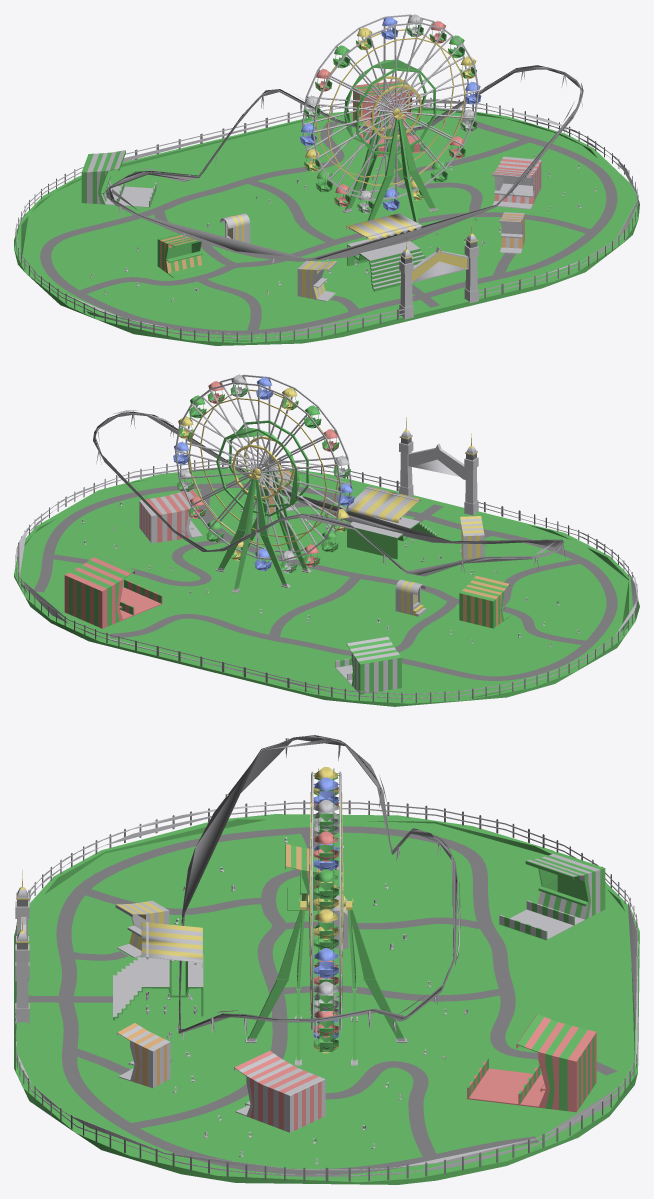
Rendered from Playground.glb.
3 renders of one model, top to bottom at view 1: azimuth 30°, elevation 25°; view 2: azimuth 150°, elevation 25°; view 3: azimuth 270°, elevation 25°, orthographic. The views are drawn at different scales.
Visible parts, largest first — view 1: 3d66-Editable_mesh-20050598-041, 3d66-Editable_mesh-20050598-154, 3d66-Editable_mesh-20050598-088; view 2: 3d66-Editable_mesh-20050598-041, 3d66-Editable_mesh-20050598-154, 3d66-Editable_mesh-20050598-088; view 3: 3d66-Editable_mesh-20050598-041, 3d66-Editable_mesh-20050598-154, 3d66-Editable_mesh-20050598-088.
Boxes of the visible parts, left/top/right/bottom form: 3d66-Editable_mesh-20050598-041: left=14, top=14, right=639, bottom=345; 3d66-Editable_mesh-20050598-154: left=15, top=65, right=638, bottom=342; 3d66-Editable_mesh-20050598-088: left=346, top=213, right=421, bottom=240; 3d66-Editable_mesh-20050598-041: left=14, top=374, right=639, bottom=706; 3d66-Editable_mesh-20050598-154: left=15, top=411, right=637, bottom=702; 3d66-Editable_mesh-20050598-088: left=346, top=486, right=421, bottom=523; 3d66-Editable_mesh-20050598-041: left=14, top=738, right=639, bottom=1184; 3d66-Editable_mesh-20050598-154: left=15, top=735, right=638, bottom=1181; 3d66-Editable_mesh-20050598-088: left=141, top=922, right=202, bottom=967.
Bounding box in the file's own units: 3.04 × 1.02 × 2.18.
Materials: 3 (3 with a texture image).
